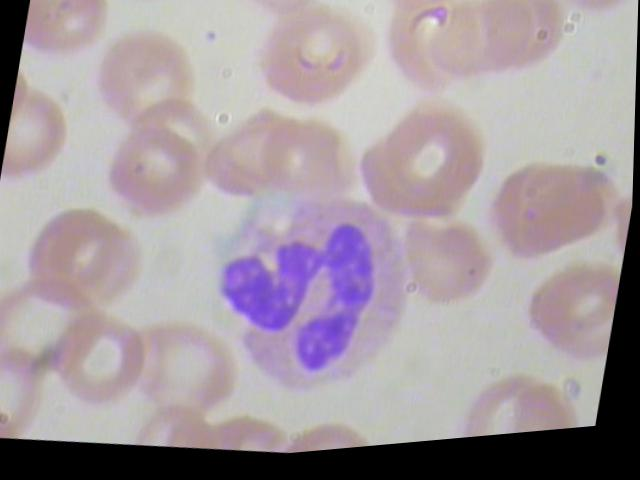Red Blood Cells: (480, 152, 634, 288), (365, 97, 497, 231), (254, 6, 380, 128), (126, 315, 251, 435), (86, 27, 202, 144), (96, 123, 212, 240), (44, 309, 157, 423), (392, 216, 505, 328), (518, 269, 623, 380), (459, 371, 596, 446)
White Blood Cells: (192, 164, 443, 424)
